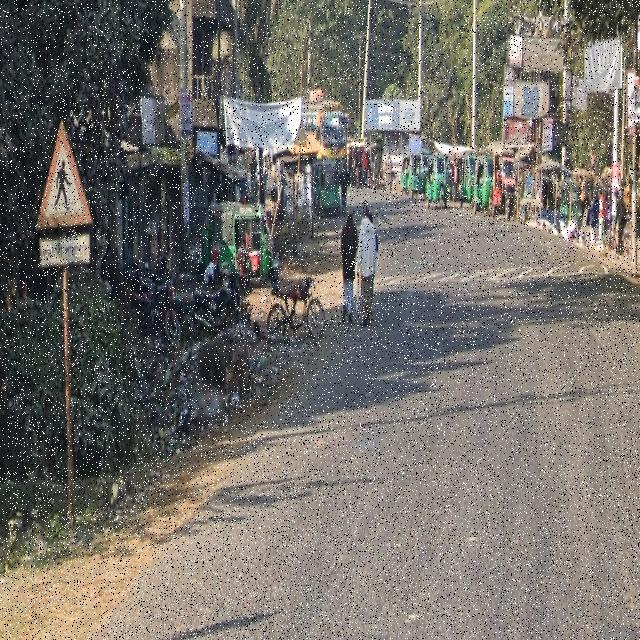Pedestrian-crossing: (34, 121, 95, 273)
